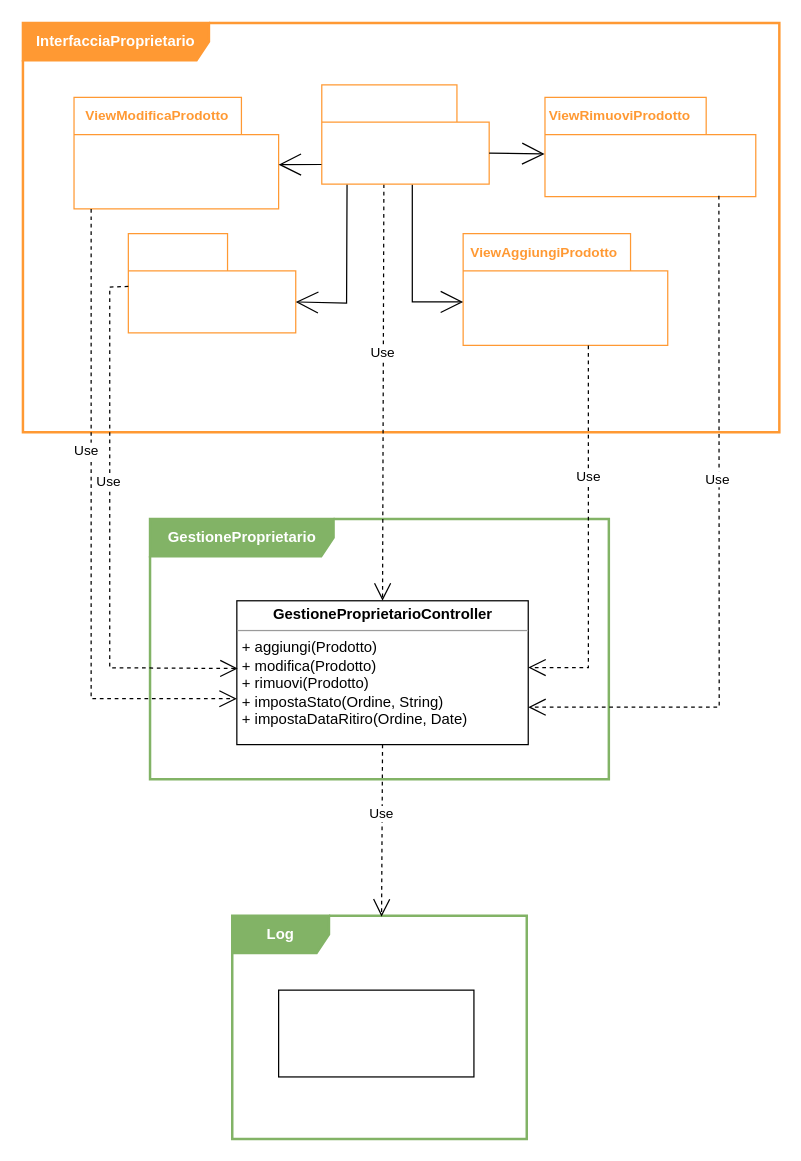
This 801x1161 diagram has some shape labels left out. The centre of each missing label's shape, as x and y in pixels:
"HomeProprietario" belongs at point (405, 134).
"Logger + aggiungiVoce(voce)" belongs at point (375, 1033).
"ViewStorico" belongs at point (211, 282).
